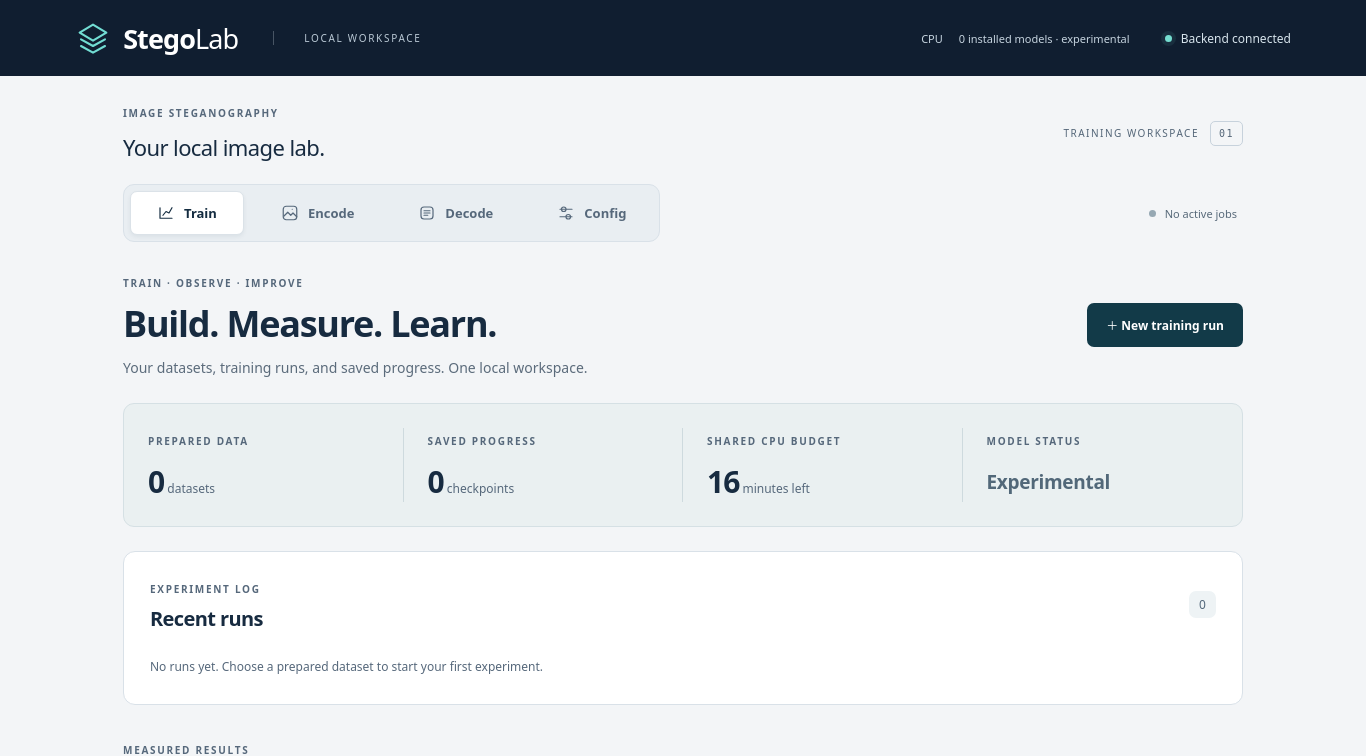
Test: workspace › saves reset defaults and reports initial connection failures
This screenshot has width=1366, height=756.
Click the tab "Config" at (592, 213), box [530,191,653,235]
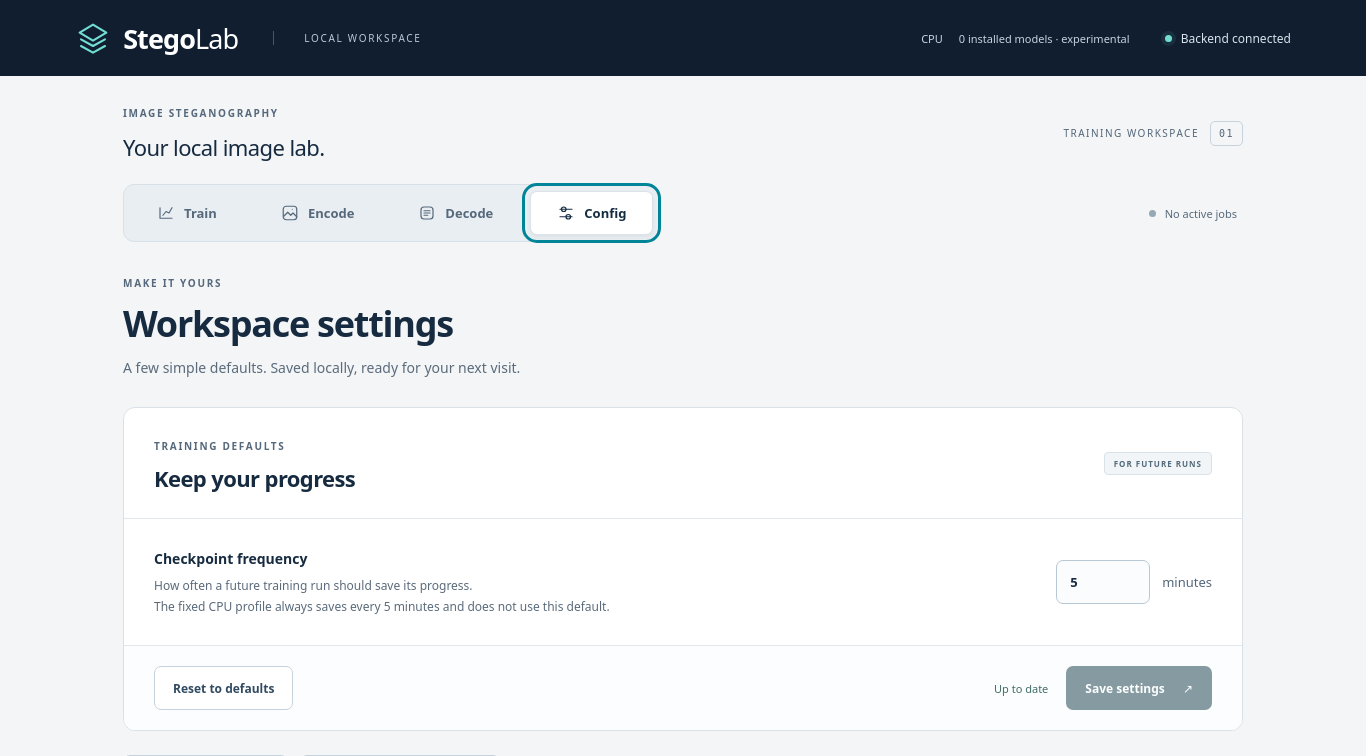
Replace the text in the number field labelled "Checkpoint frequency" with "11" at (1103, 582), box [1056,560,1150,604]
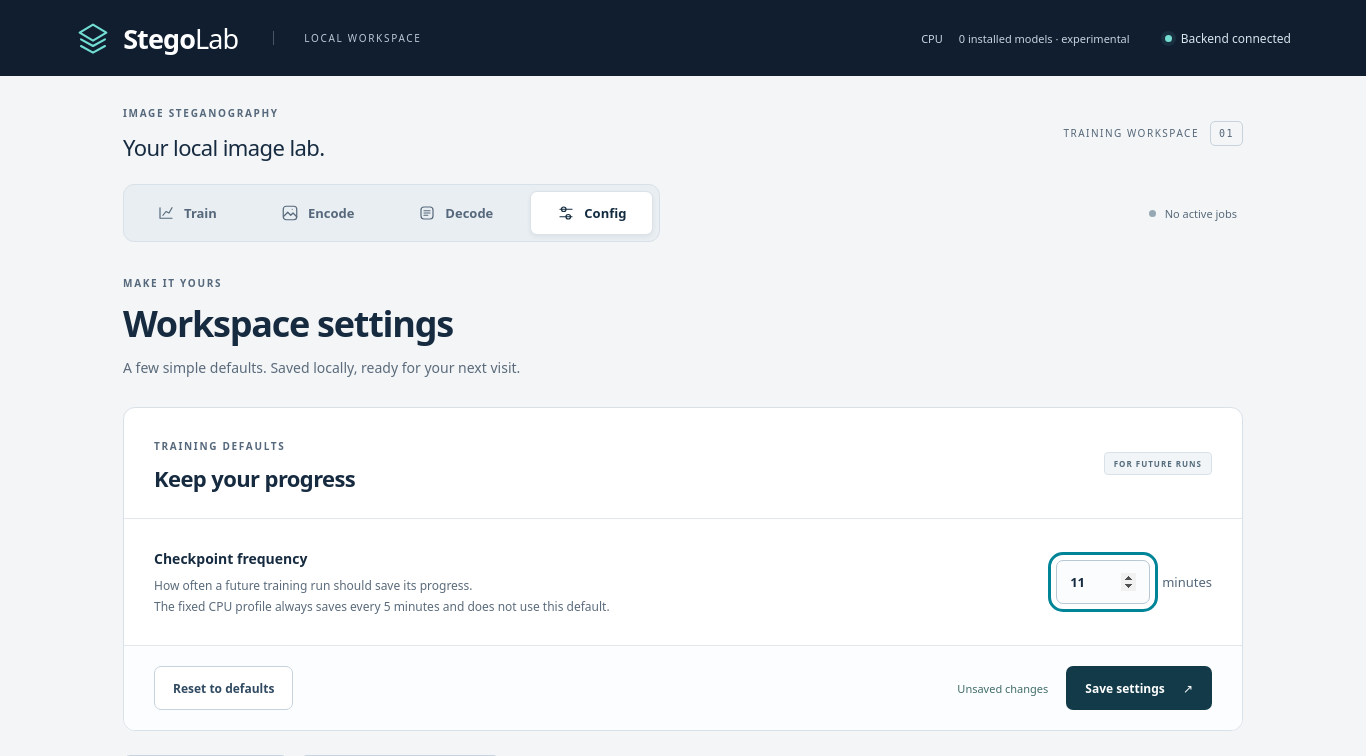
Click the button "Reset to defaults" at (224, 688), box [154,666,294,710]
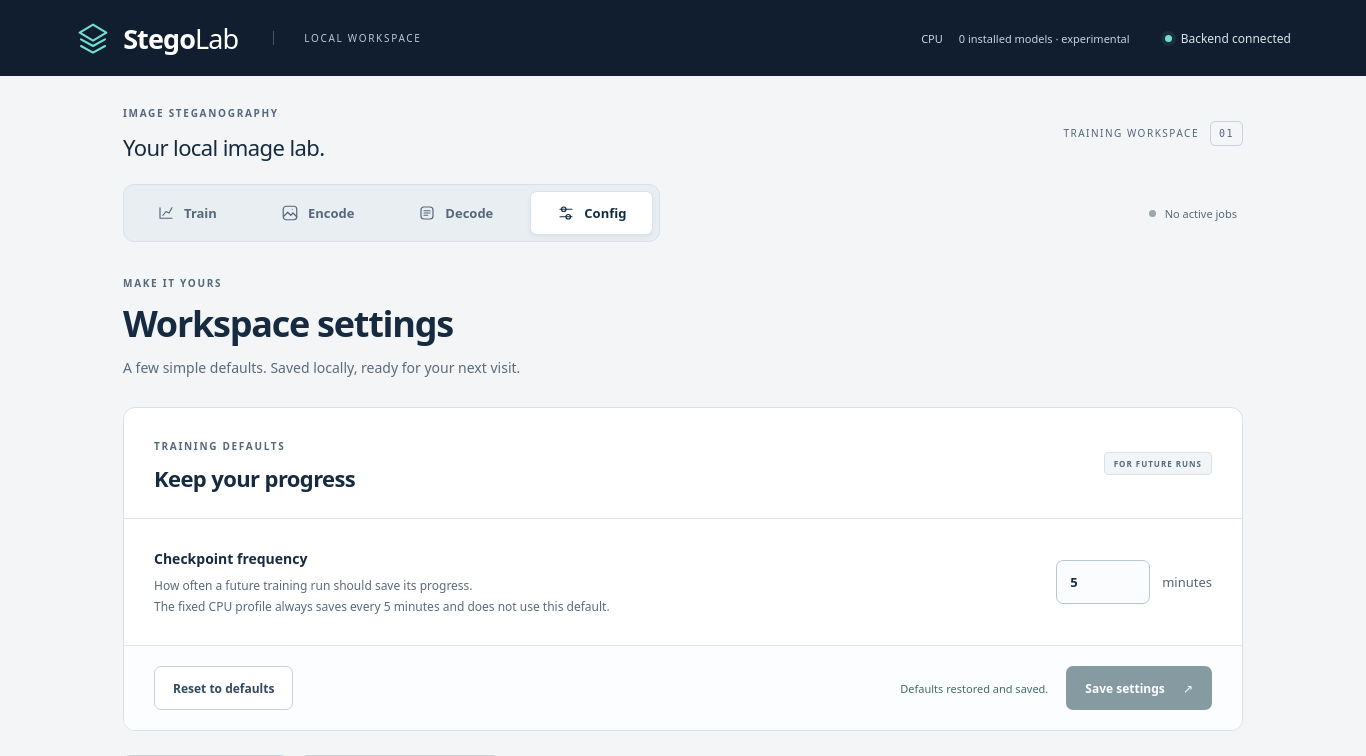
Expected: the text "Defaults restored and saved." is shown, [900,681,1048,696]
Expected: the number field labelled "Checkpoint frequency" holds "5", [1056,560,1150,604]
